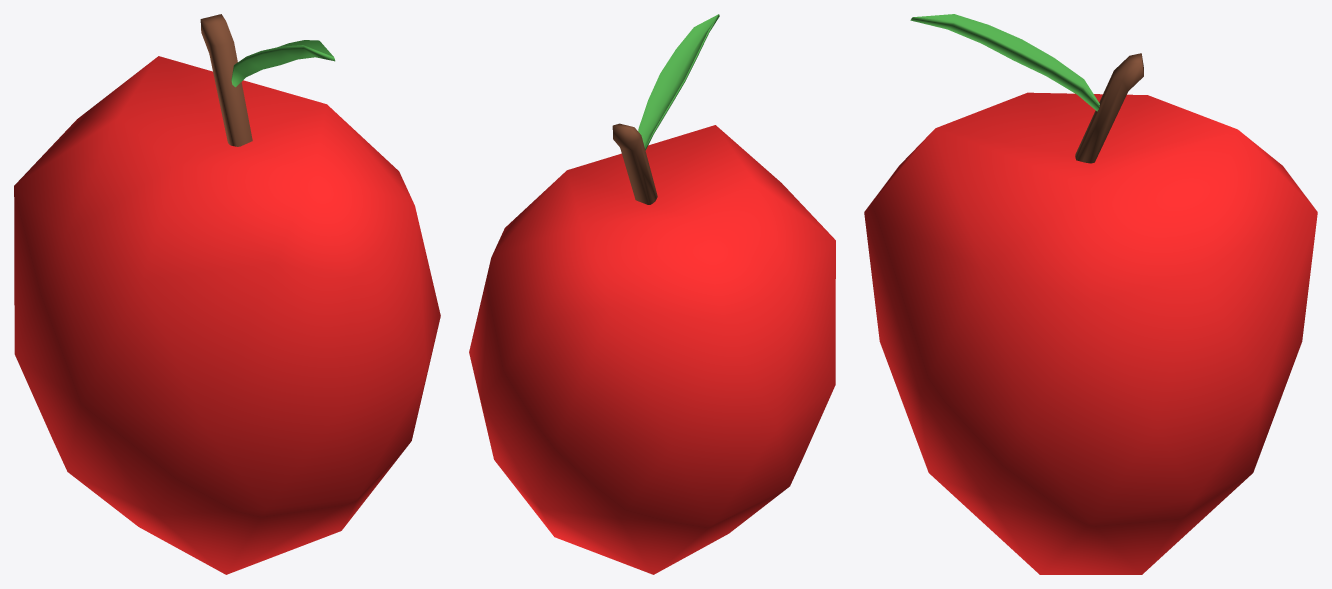
Rendered from Maça.fbx.
The picture shows the model from 3 angles, left to right: view 1: azimuth 30°, elevation 25°; view 2: azimuth 150°, elevation 25°; view 3: azimuth 270°, elevation 25°; orthographic projection. The views are drawn at different scales.
Parts seen in each view (by area): view 1: Maça; view 2: Maça; view 3: Maça.
Part boxes in pixels (<box>): Maça: <box>14,14,440,574</box>; Maça: <box>469,14,835,574</box>; Maça: <box>864,14,1317,574</box>.
Size of the model in its own units: 24.07 by 34.58 by 27.17.
